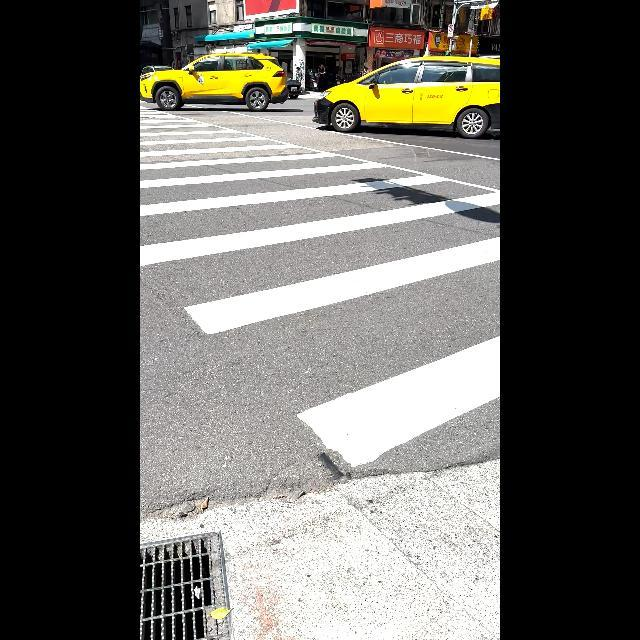sidewalk: (140, 103, 495, 475)
